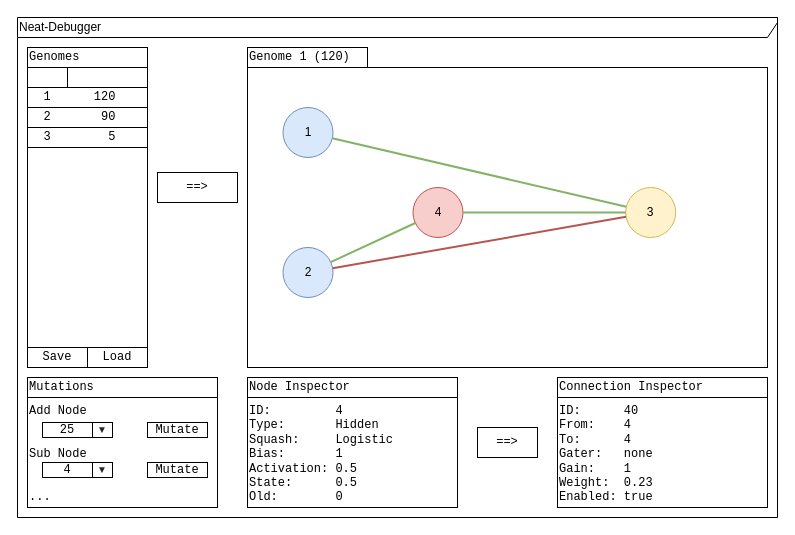
The diagram is 795 pixels wide and 535 high, and some of its shapes have lost their labels. The shapes that lost their labels are listed below. From the top down, each one's centre as x and y in pixels, then its label:
the point at 47,77: ID
the point at 107,77: Fitness
